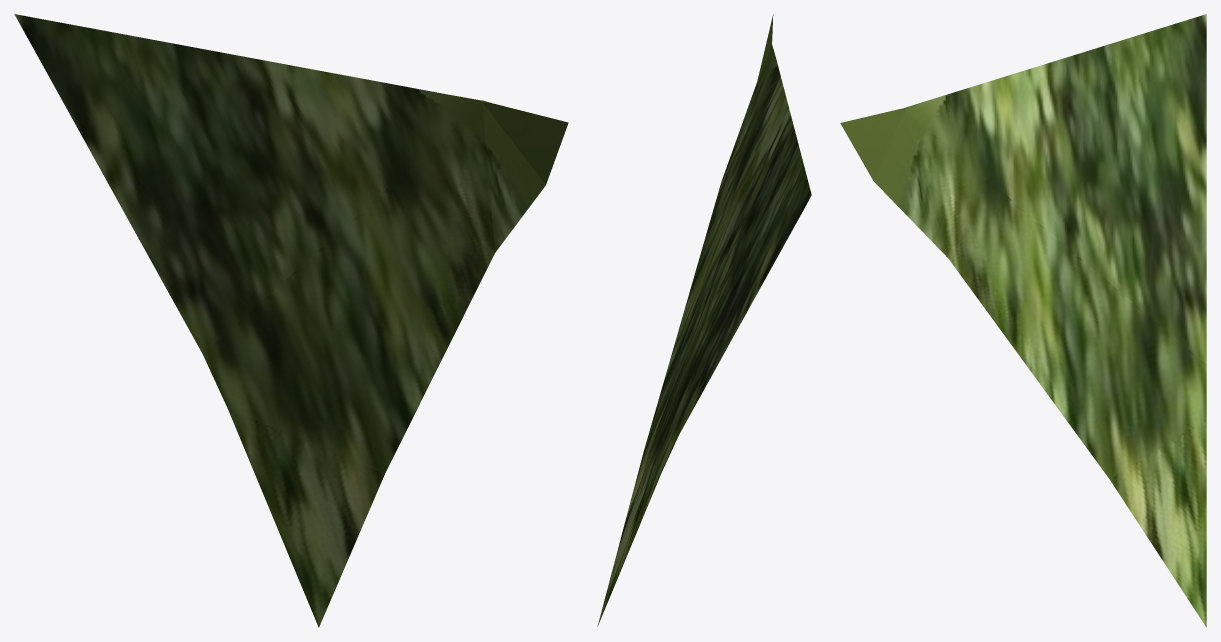
3 renders of one model, left to right at view 1: azimuth 30°, elevation 25°; view 2: azimuth 150°, elevation 25°; view 3: azimuth 270°, elevation 25°, orthographic. The views are drawn at different scales.
Bounding box in the file's own units: 1.15 × 2.48 × 1.63.
1 material, 1 textured.
